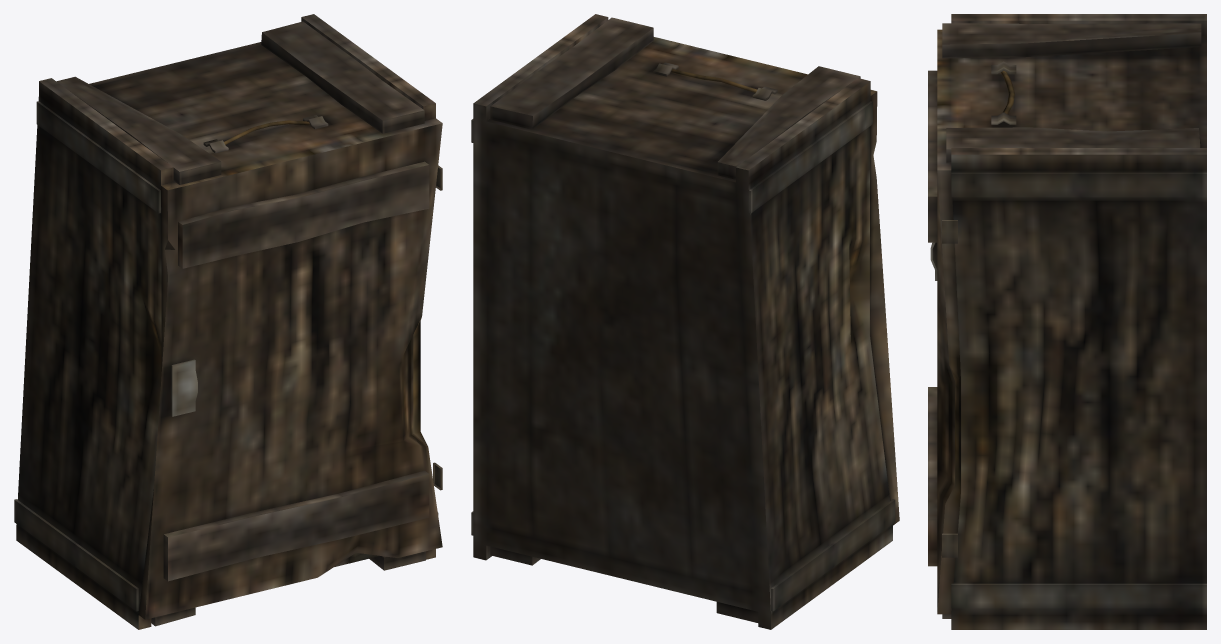
Rendered from crate.obj.
The picture shows the model from 3 angles, left to right: view 1: azimuth 30°, elevation 25°; view 2: azimuth 150°, elevation 25°; view 3: azimuth 270°, elevation 25°; orthographic projection. The views are drawn at different scales.
Parts seen in each view (by area): view 1: SSCrateTall:0; view 2: SSCrateTall:0; view 3: SSCrateTall:0.
Part boxes in pixels (x1,y1,x2,y2): SSCrateTall:0: (14, 14, 442, 629); SSCrateTall:0: (471, 14, 899, 629); SSCrateTall:0: (928, 14, 1206, 629).
Bounding box in the file's own units: 48.25 × 69.31 × 36.84.
